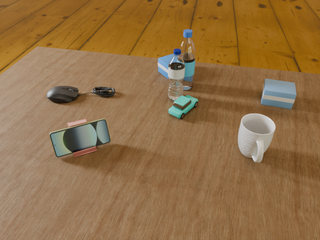bottle: (179, 30, 195, 90), (168, 48, 185, 101)
box: (261, 79, 296, 109), (158, 54, 173, 78)
cup: (238, 114, 275, 162)
mouse: (47, 86, 81, 103)
phone: (50, 119, 111, 157)
toy_car: (169, 95, 198, 119)
